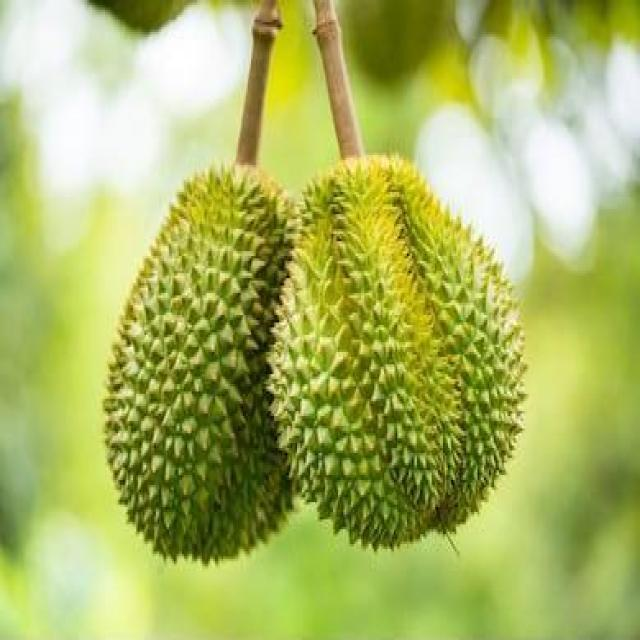immature: (266, 154, 532, 557), (106, 160, 303, 564)
